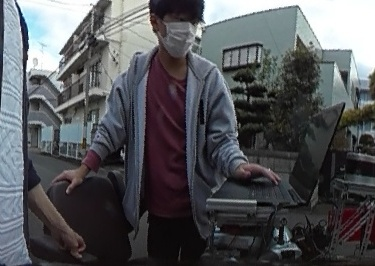person: (115, 0, 253, 266)
